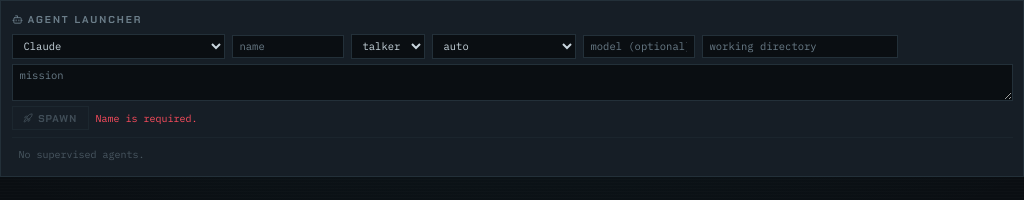
Test case: AgentLauncher — mute permission modes › refuses plan before the round trip, naming what is lost
The image size is (1024, 200).
Type "alpha" into the field named "Agent name" at (288, 46), box [232,34,344,58]
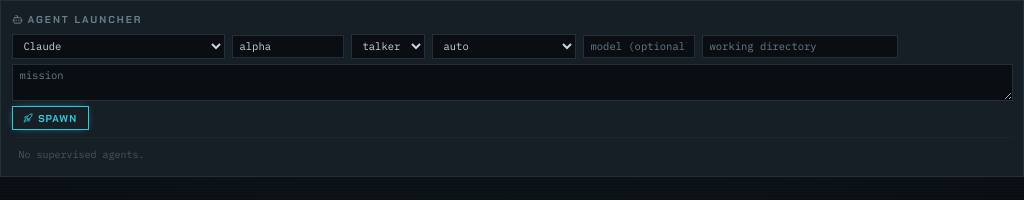
Select "plan" in the dropdown named "Agent permission mode" at (504, 46), box [432,34,576,58]
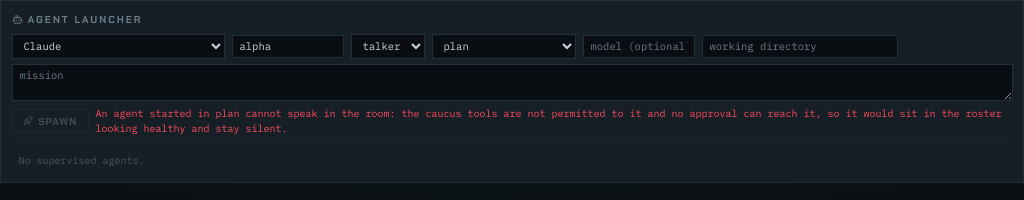
expect the text "cannot speak in the room" is shown: met, box [96,107,1002,135]
expect the button with aria-label "Spawn agent" is disabled: met, box [12,109,89,133]
